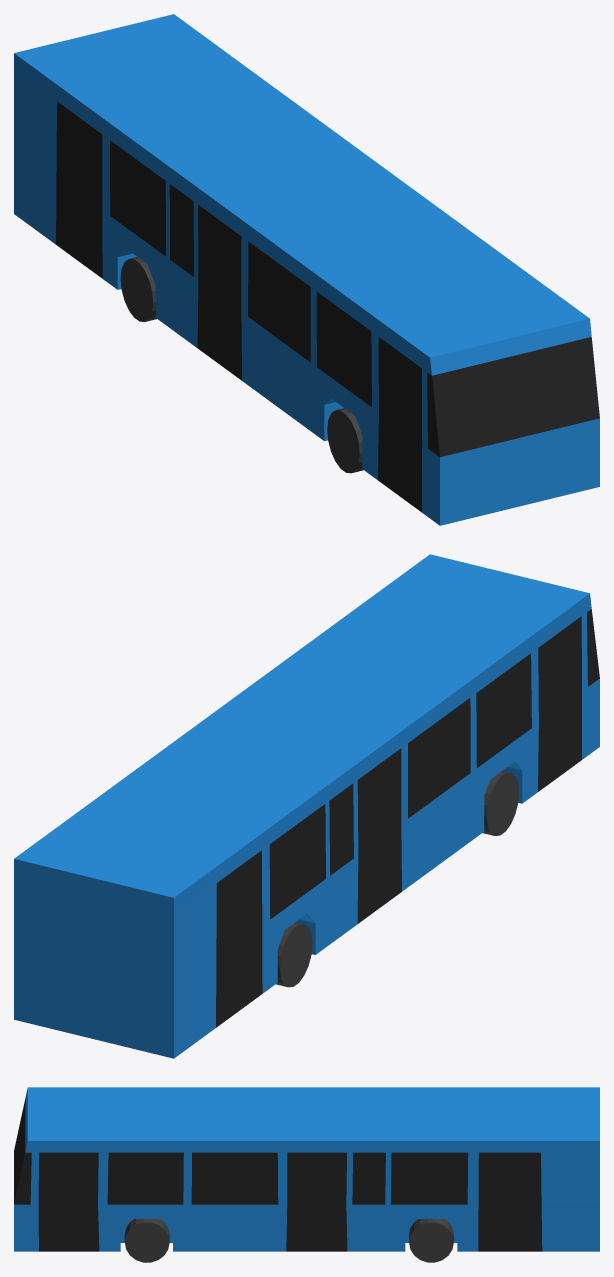
File: bus_blue.dae
The picture shows the model from 3 angles, top to bottom: view 1: azimuth 30°, elevation 25°; view 2: azimuth 150°, elevation 25°; view 3: azimuth 270°, elevation 25°; orthographic projection. The views are drawn at different scales.
Parts seen in each view (by area): view 1: body.002, wheel_fr.002, wheel_rr.002; view 2: body.002, wheel_fr.002, wheel_rr.002; view 3: body.002, wheel_fl.002, wheel_rl.002.
Boxes of the visible parts, x1,y1,x2,y2 form: body.002: (14,14,599,525); wheel_fr.002: (327,408,363,473); wheel_rr.002: (120,257,156,321); body.002: (14,554,599,1058); wheel_fr.002: (483,771,519,835); wheel_rr.002: (276,922,312,987); body.002: (14,1087,599,1251); wheel_fl.002: (124,1219,169,1262); wheel_rl.002: (409,1219,453,1262).
Size of the model in its own units: 2.6 by 12.01 by 2.75.
